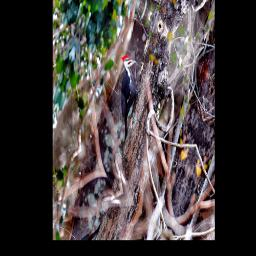Woodpecker: (101, 46, 146, 144)
